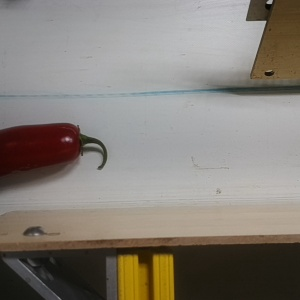Cut Point: (59, 122, 93, 162)
